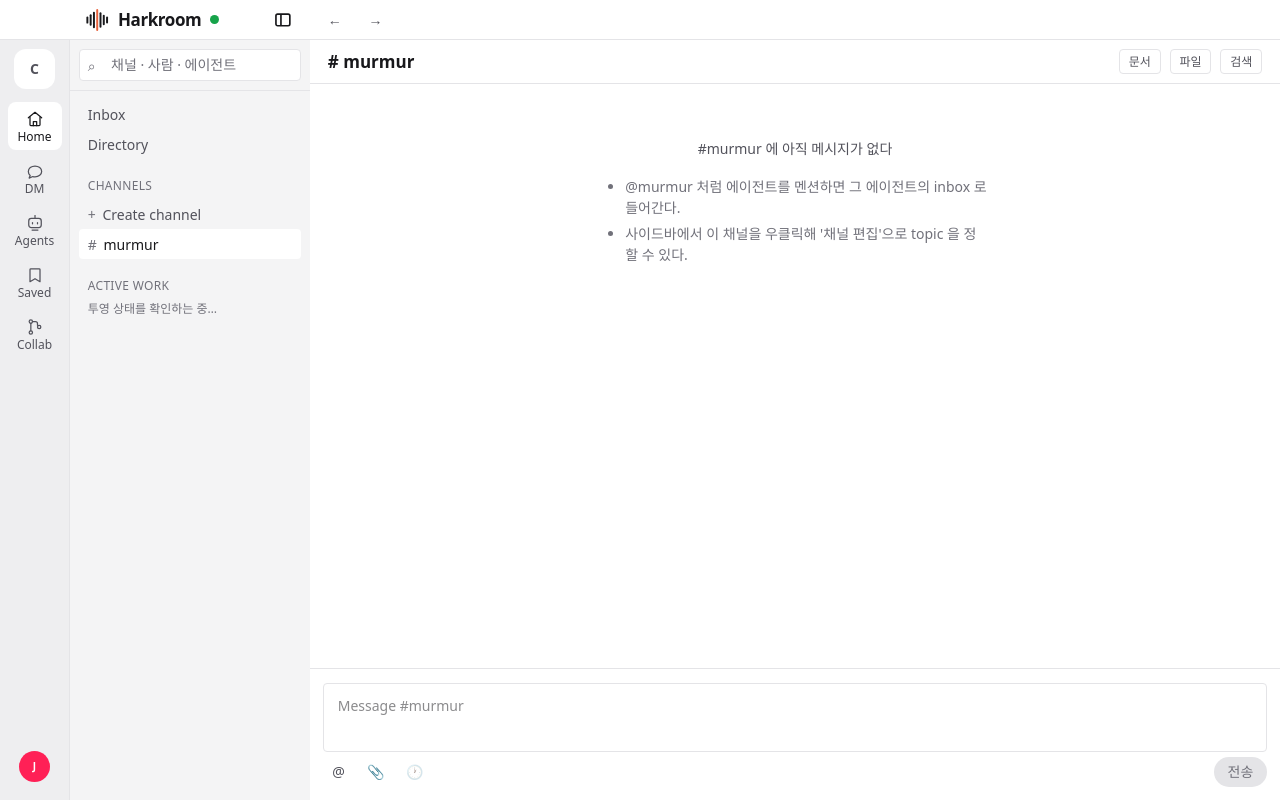
Scenario: 배선 — 도는 턴이 없어도, 몰라도 대기는 보인다 › 세션 목록이 실패해도 대기는 그대로 온다 — 테이블에서 오는 사실이다
The image size is (1280, 800).
Click the button with test id "rail-agents": (34, 230) [8,206,62,254]
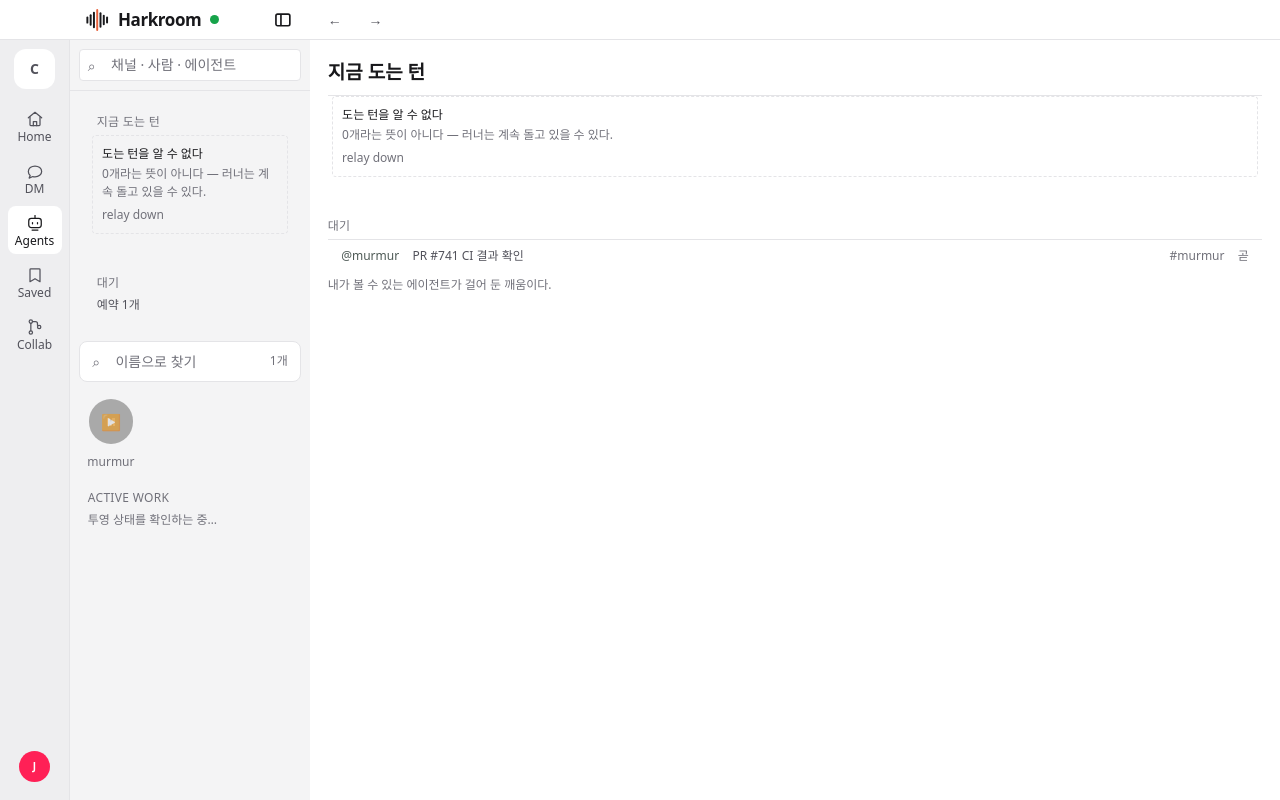
Now the 1st element with test id "agent-turns-unknown" is shown, box [332,96,1258,177]
Now the list item with test id "agent-wait-w1" is shown, box [328,239,1262,271]
